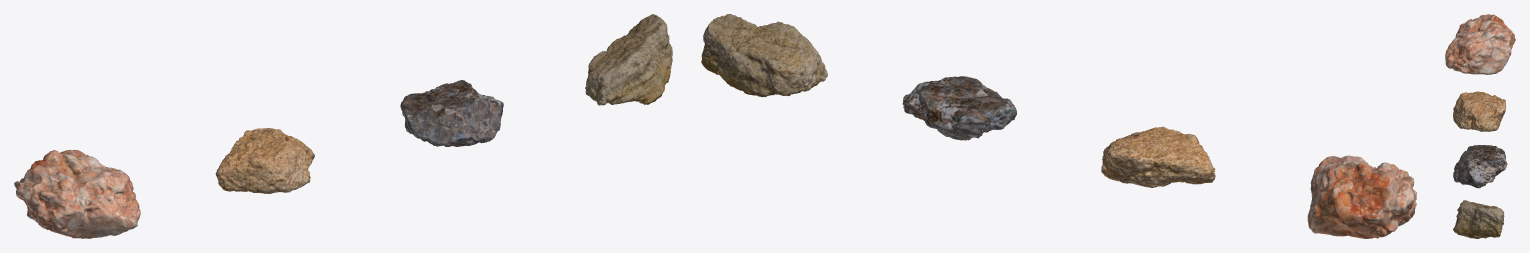
The model's file is namaqualand_rocks_01.gltf.
The picture shows the model from 3 angles, left to right: view 1: azimuth 30°, elevation 25°; view 2: azimuth 150°, elevation 25°; view 3: azimuth 270°, elevation 25°; orthographic projection. The views are drawn at different scales.
Visible parts, largest first — view 1: namaqualand_rocks_02_a, namaqualand_rocks_02_d, namaqualand_rocks_02_c, namaqualand_rocks_02_b; view 2: namaqualand_rocks_02_d, namaqualand_rocks_02_a, namaqualand_rocks_02_b, namaqualand_rocks_02_c; view 3: namaqualand_rocks_02_a, namaqualand_rocks_02_b, namaqualand_rocks_02_c, namaqualand_rocks_02_d.
Part boxes in pixels (<box>): namaqualand_rocks_02_a: <box>14,149,140,238</box>; namaqualand_rocks_02_d: <box>585,14,672,105</box>; namaqualand_rocks_02_c: <box>400,80,503,146</box>; namaqualand_rocks_02_b: <box>215,128,314,193</box>; namaqualand_rocks_02_d: <box>701,14,827,97</box>; namaqualand_rocks_02_a: <box>1307,155,1416,238</box>; namaqualand_rocks_02_b: <box>1101,126,1215,187</box>; namaqualand_rocks_02_c: <box>902,76,1016,140</box>; namaqualand_rocks_02_a: <box>1445,14,1515,74</box>; namaqualand_rocks_02_b: <box>1453,91,1506,131</box>; namaqualand_rocks_02_c: <box>1453,145,1507,188</box>; namaqualand_rocks_02_d: <box>1453,200,1504,238</box>.
Size of the model in its own units: 1.45 by 0.1525 by 0.217.
Materials: 1 (1 with a texture image).
